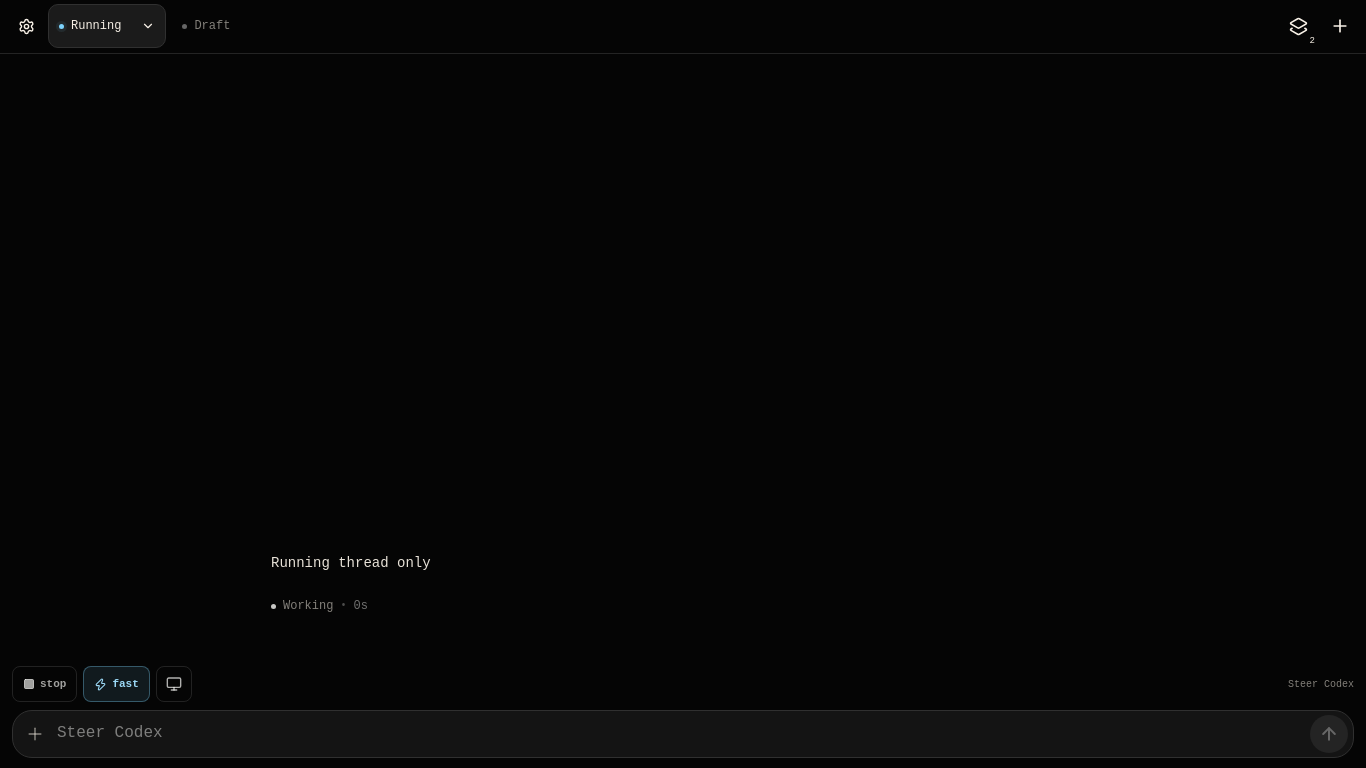
MobileShell › never renders another thread timeline while the selected tab is loading
Expected: the text "Running thread only" is shown, x1=271 y1=555 x2=431 y2=571
Click the tab with aria-label "Switch to Draft" at (206, 26), box x1=172 y1=5 x2=240 y2=47
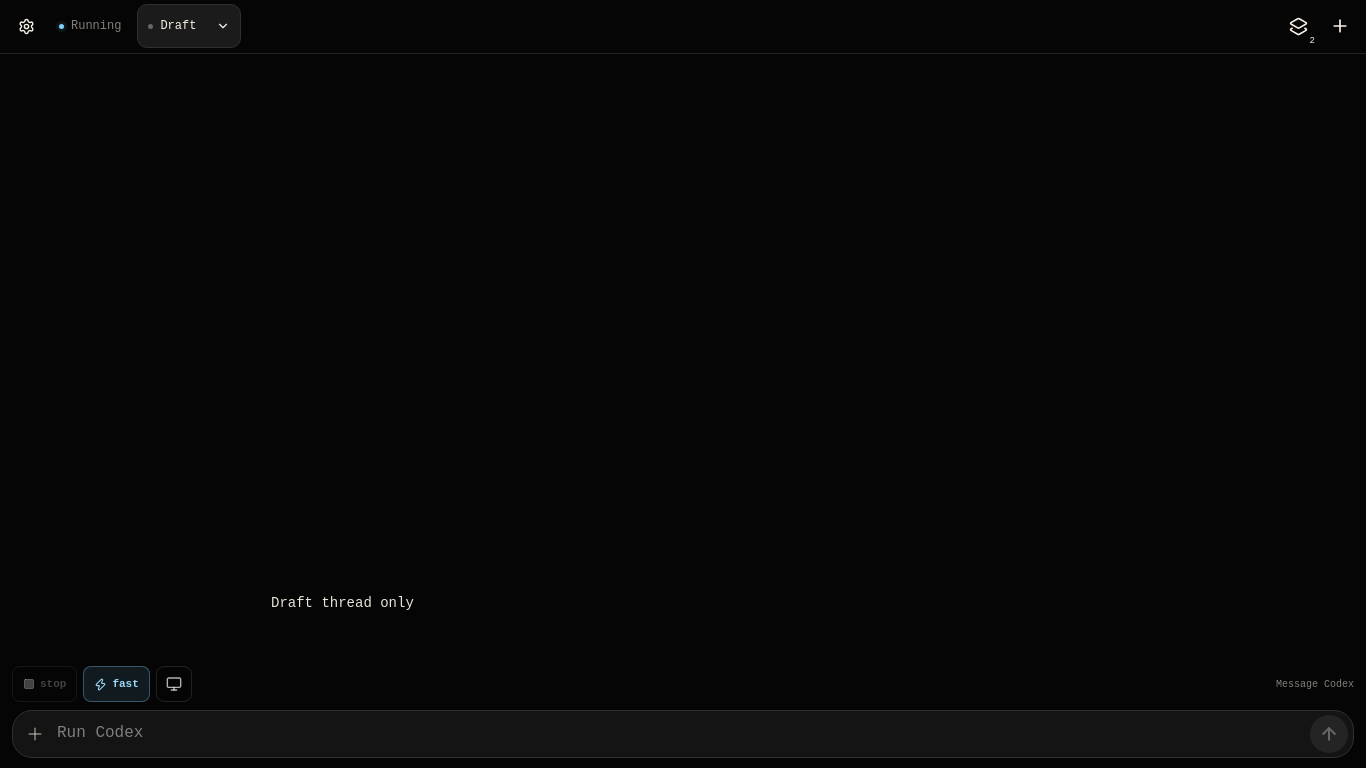
Expected: the text "Running thread only" is gone
Expected: the text "Draft thread only" is shown, x1=271 y1=595 x2=414 y2=611
